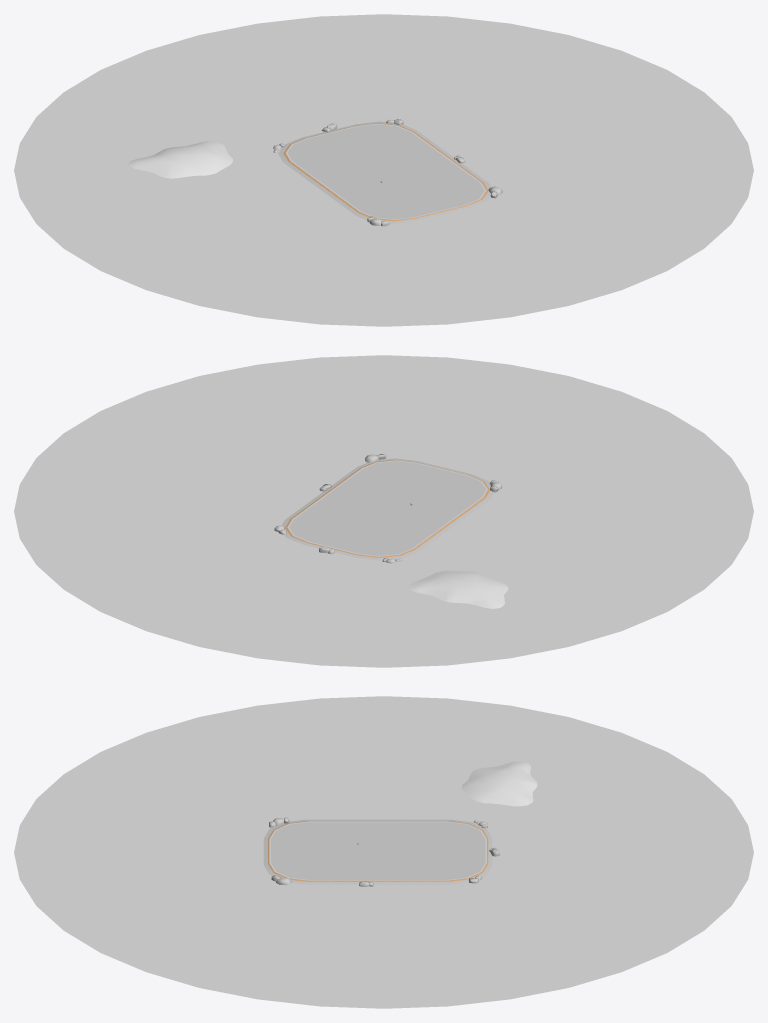
File: Homestead_Island.fbx
The picture shows the model from 3 angles, top to bottom: view 1: azimuth 30°, elevation 25°; view 2: azimuth 150°, elevation 25°; view 3: azimuth 270°, elevation 25°; orthographic projection.
Parts seen in each view (by area): view 1: Sea, Grass, Sand01, Sand, Sand.003, Grass.02; view 2: Sea, Grass, Sand01, Sand, Sand.003, Grass.02; view 3: Sea, Grass, Sand01, Sand, Sand.003, Grass.02.
Boxes of the visible parts, x1,y1,x2,y2 form: Sea: [14, 14, 753, 326]; Grass: [287, 124, 484, 219]; Sand01: [128, 141, 232, 178]; Sand: [278, 121, 490, 223]; Sand.003: [283, 123, 488, 221]; Grass.02: [285, 123, 486, 219]; Sea: [14, 355, 753, 667]; Grass: [289, 461, 486, 555]; Sand01: [409, 570, 508, 608]; Sand: [281, 458, 494, 560]; Sand.003: [285, 460, 489, 557]; Grass.02: [287, 460, 487, 556]; Sea: [14, 696, 753, 1008]; Grass: [271, 822, 485, 879]; Sand01: [462, 761, 537, 806]; Sand: [263, 819, 492, 884]; Sand.003: [268, 821, 488, 881]; Grass.02: [269, 821, 486, 880].
Size of the model in its own units: 50411 by 1346 by 50429.
